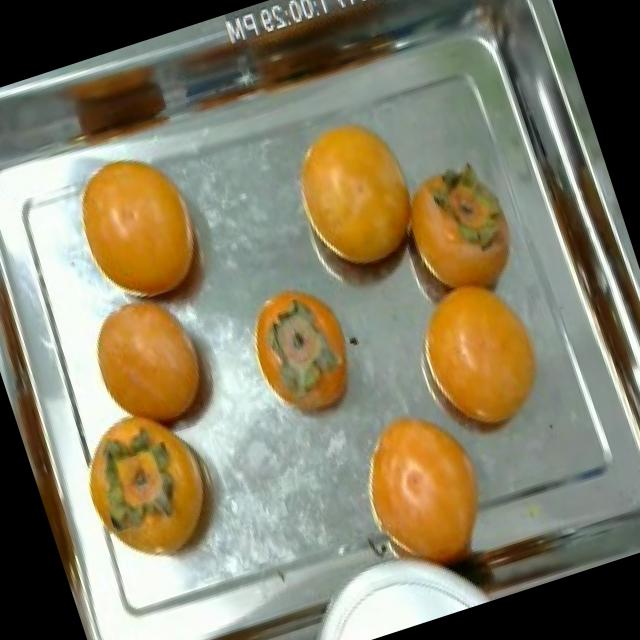Fruit: (327, 382, 513, 594), (54, 126, 231, 327), (64, 269, 238, 465), (71, 388, 244, 585), (398, 262, 566, 456), (273, 99, 440, 293), (386, 144, 538, 320), (231, 266, 377, 444), (46, 41, 192, 175)
